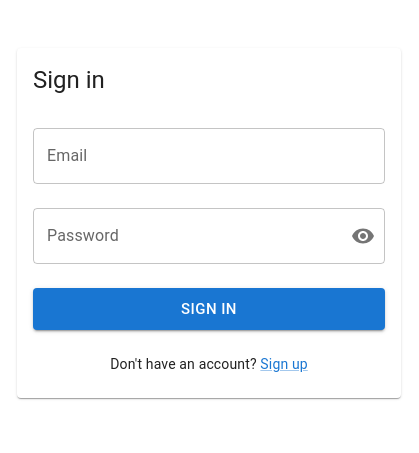
Test: LoginPage › shows an auth-error alert (distinct from field errors) for wrong credentials, and stays on the page
The image size is (419, 453).
Type "reader@alkira.dev" into the field labelled "Email".
click(209, 156); type("reader@alkira.dev")  # box top-left (33, 128), bottom-right (385, 184)
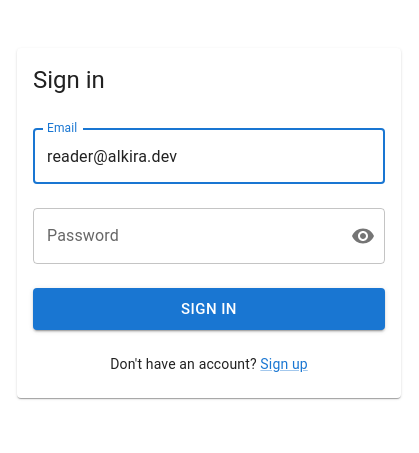
Type "wrong-password" into the password field labelled "Password".
click(184, 236); type("wrong-password")  # box top-left (33, 208), bottom-right (335, 264)
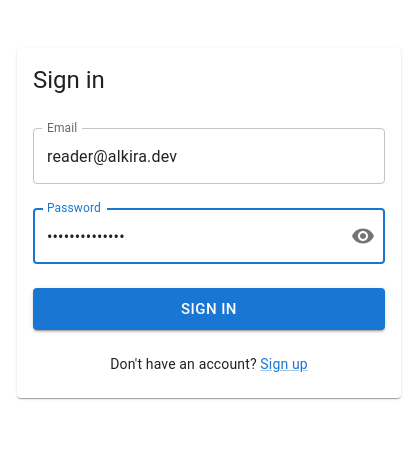
Click the button "Sign in".
click(209, 309)  # box top-left (33, 288), bottom-right (385, 330)
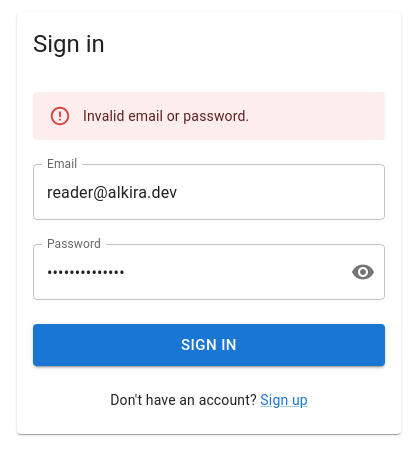
expect the button "Sign in" is shown: met, box top-left (33, 324), bottom-right (385, 366)
expect the message reads "Invalid email or password.": met, box top-left (83, 108), bottom-right (249, 124)
